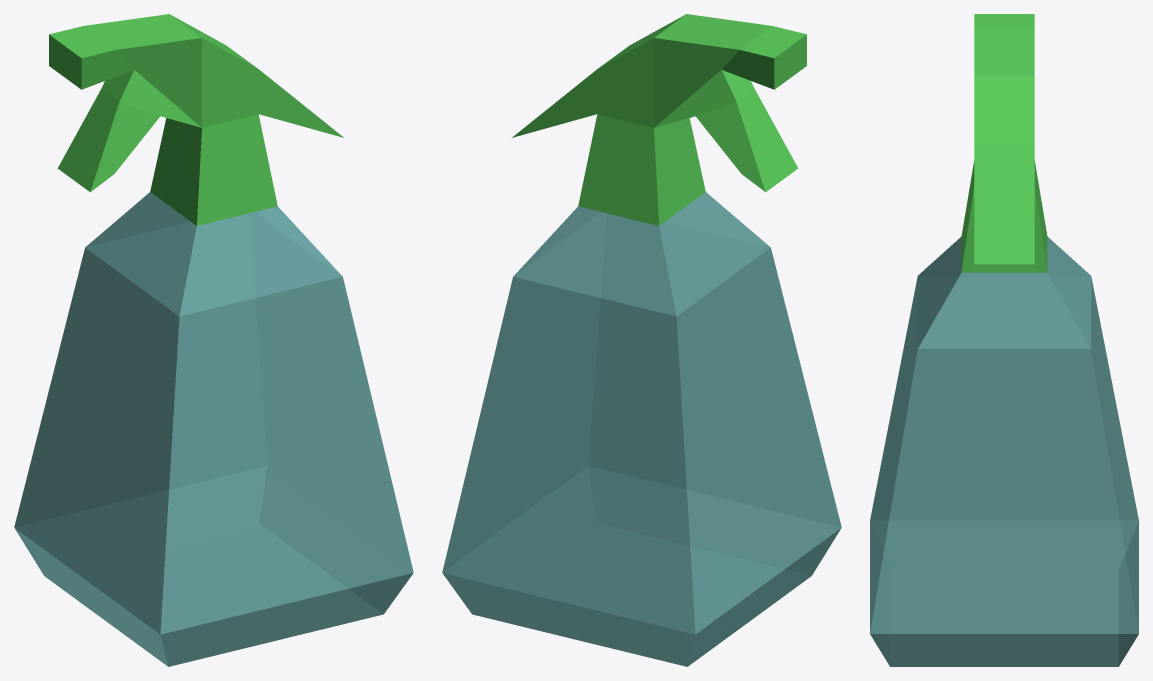
The model's file is waterspuit.fbx.
3 renders of one model, left to right at view 1: azimuth 30°, elevation 25°; view 2: azimuth 150°, elevation 25°; view 3: azimuth 270°, elevation 25°, orthographic. The views are drawn at different scales.
Parts seen in each view (by area): view 1: plantenspuit; view 2: plantenspuit; view 3: plantenspuit.
Boxes of the visible parts, x1,y1,x2,y2 form: plantenspuit: [14, 14, 413, 666]; plantenspuit: [442, 14, 841, 666]; plantenspuit: [870, 14, 1138, 666].
Size of the model in its own units: 4.8 by 9.75 by 4.42.
